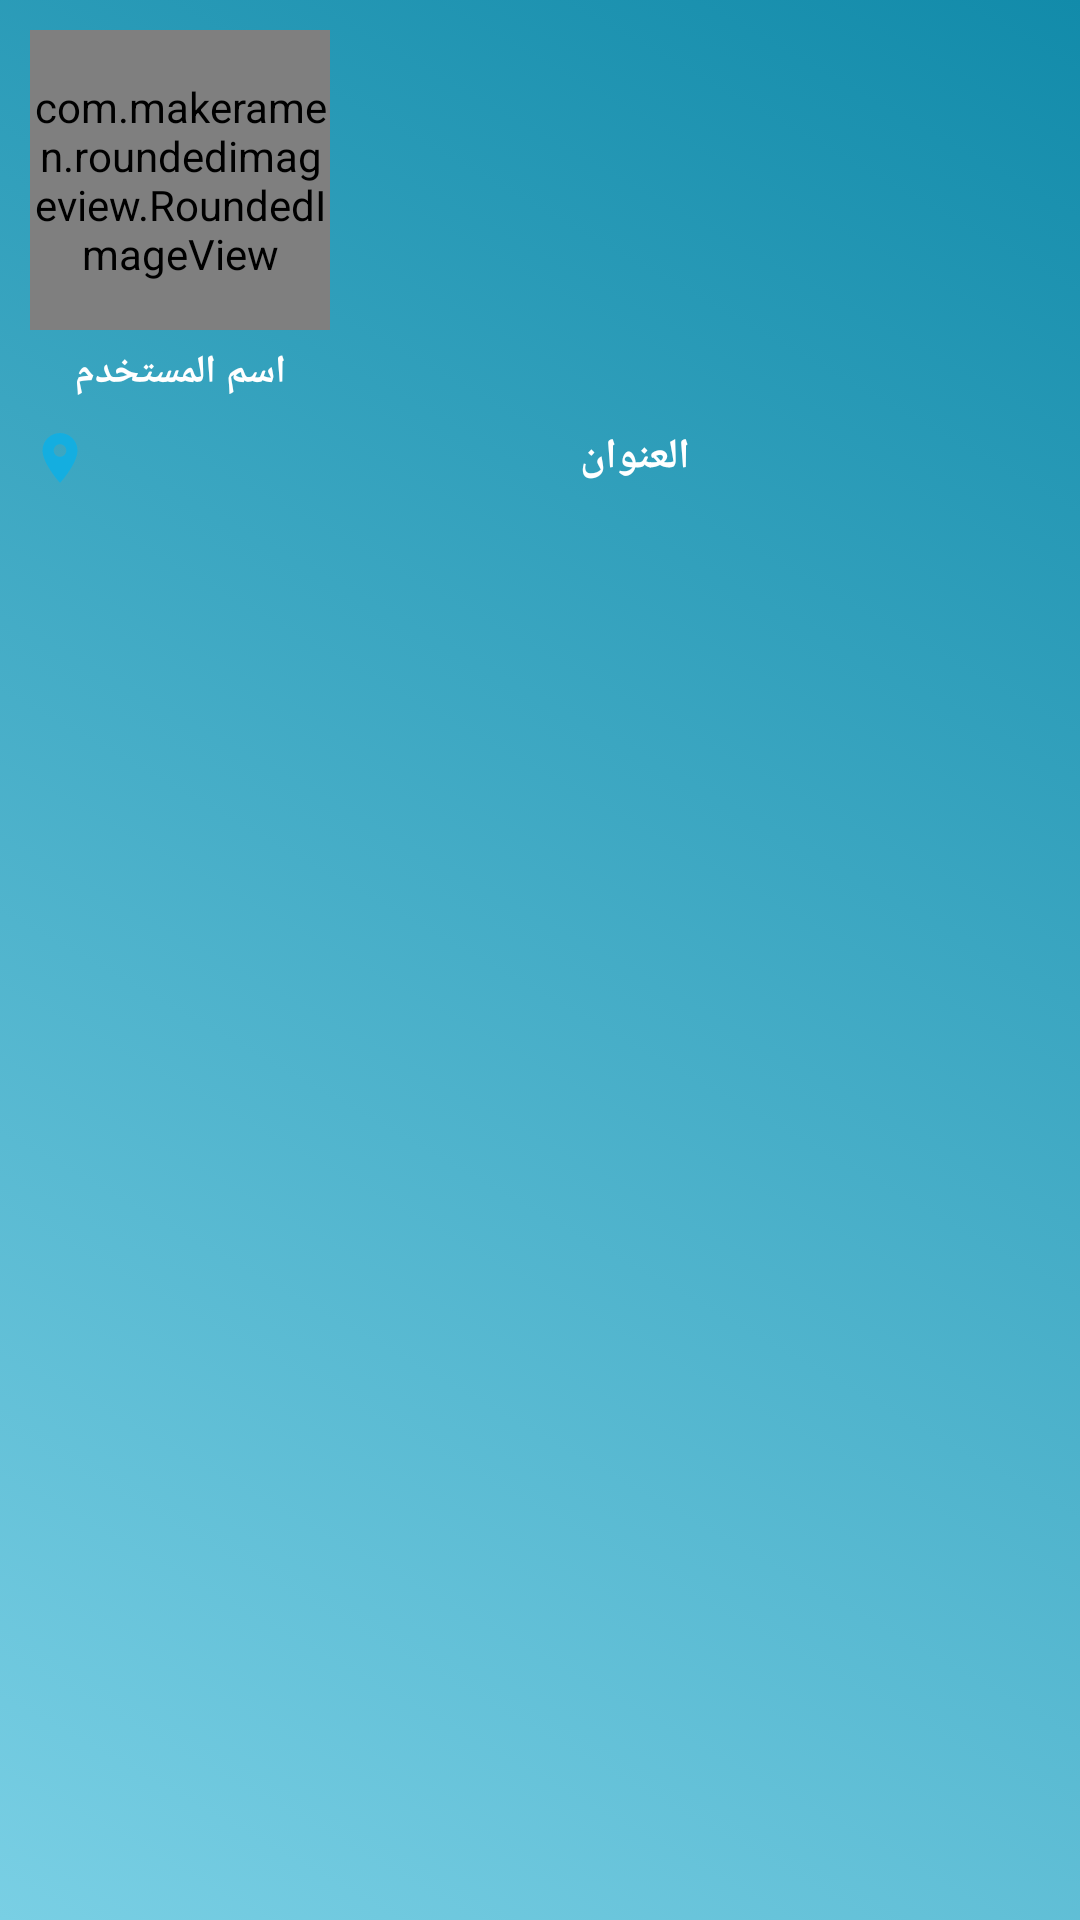

Icon bounding boxes for this 1080 x 1920 phone screenshot, format detection(x1, y1, x2, y2):
location on: detection(43, 433, 77, 482)
